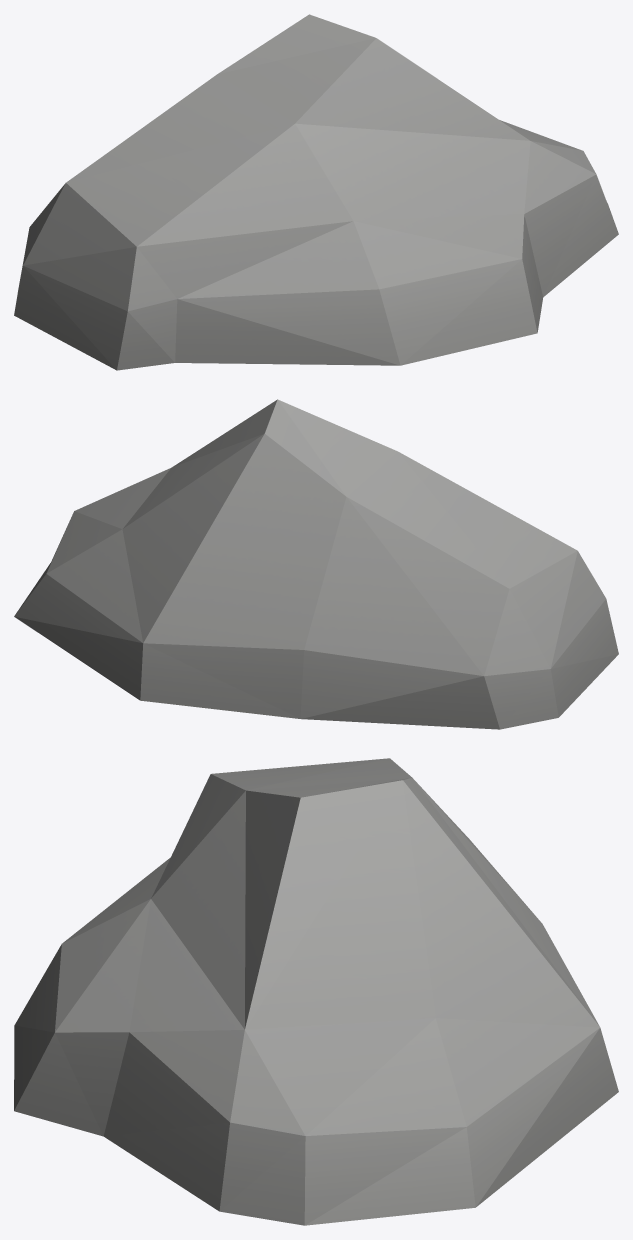
Rendered from Cavern_RockMed-04.fbx.
3 views of the same model, one above another, from view 1: azimuth 30°, elevation 25°; view 2: azimuth 150°, elevation 25°; view 3: azimuth 270°, elevation 25° (orthographic). The views are drawn at different scales.
Parts seen in each view (by area): view 1: Cavern_RockMed-04; view 2: Cavern_RockMed-04; view 3: Cavern_RockMed-04.
Part boxes in pixels (x1,y1,x2,y2): Cavern_RockMed-04: [14, 14, 618, 370]; Cavern_RockMed-04: [14, 399, 618, 729]; Cavern_RockMed-04: [14, 758, 618, 1225].
Size of the model in its own units: 199 by 76.47 by 147.
1 material, 1 textured.
